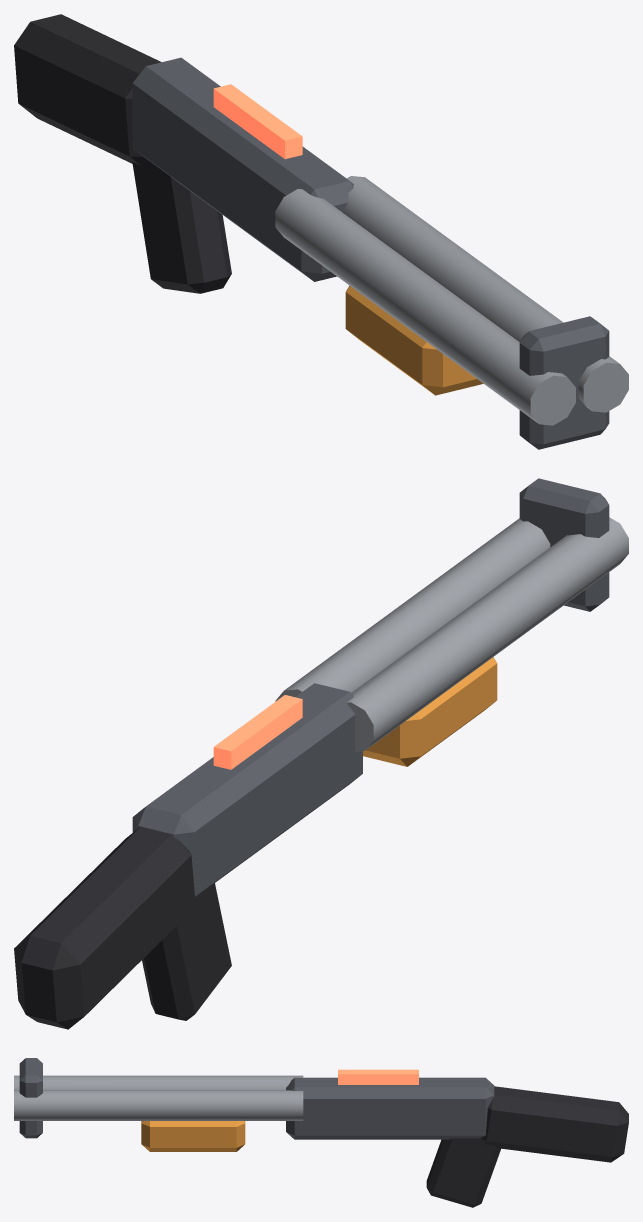
Rendered from weapon_scattergun.glb.
3 views of the same model, one above another, from view 1: azimuth 30°, elevation 25°; view 2: azimuth 150°, elevation 25°; view 3: azimuth 270°, elevation 25° (orthographic). The views are drawn at different scales.
Visible parts, largest first — view 1: scattergun; view 2: scattergun; view 3: scattergun.
Part boxes in pixels (x1=…): scattergun: x1=14, y1=14, x2=628, y2=449; scattergun: x1=14, y1=478, x2=628, y2=1029; scattergun: x1=14, y1=1058, x2=628, y2=1207.
Bounding box in the file's own units: 0.1114 × 0.2631 × 1.06.
